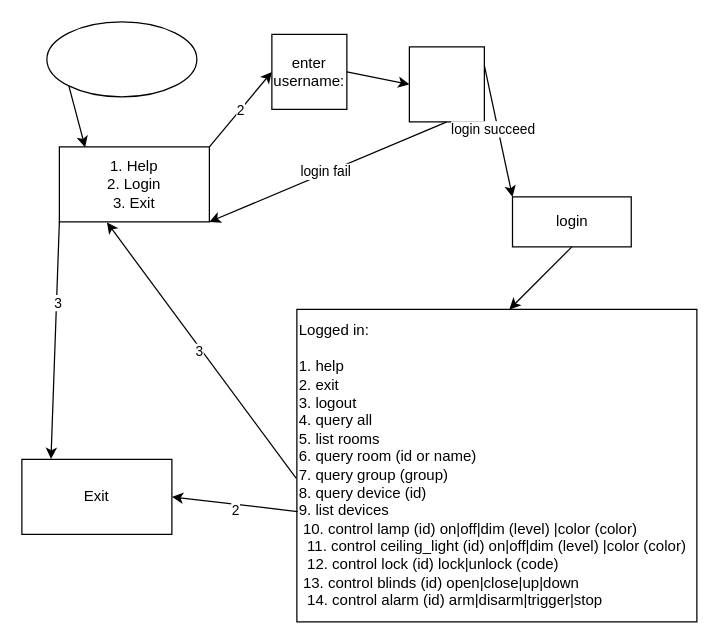
The diagram is 719 pixels wide and 644 high, and some of its shapes have lost their labels. Each missing label, with the box of its shape:
enter password:: (408, 46, 484, 122)
Start: (46, 21, 197, 97)
